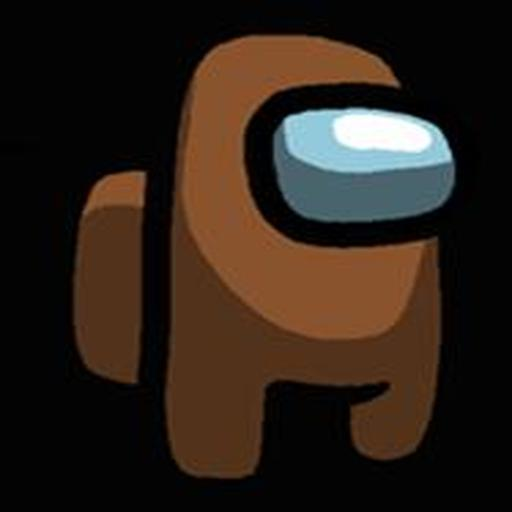Crewmate: (64, 31, 484, 479)
